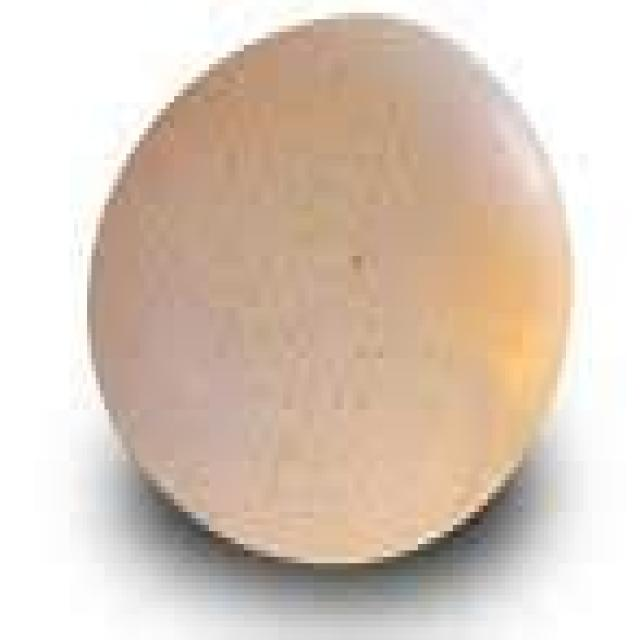White Egg: (63, 0, 572, 573)
